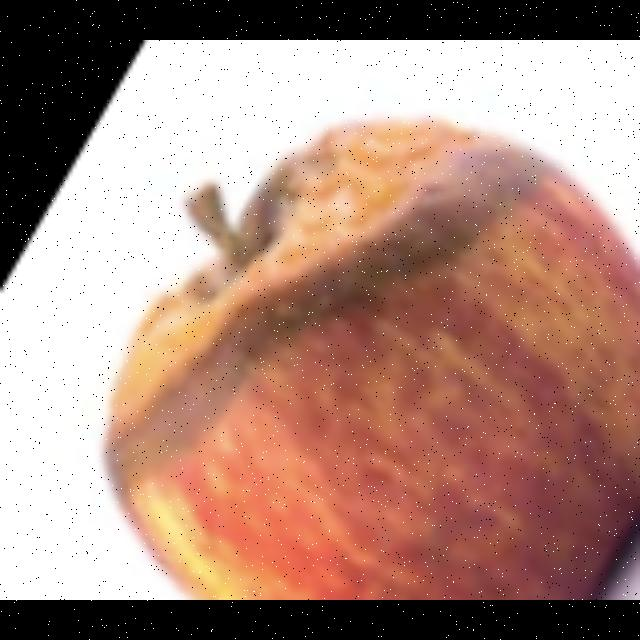Apel Tidak Segar: (92, 100, 640, 600)
